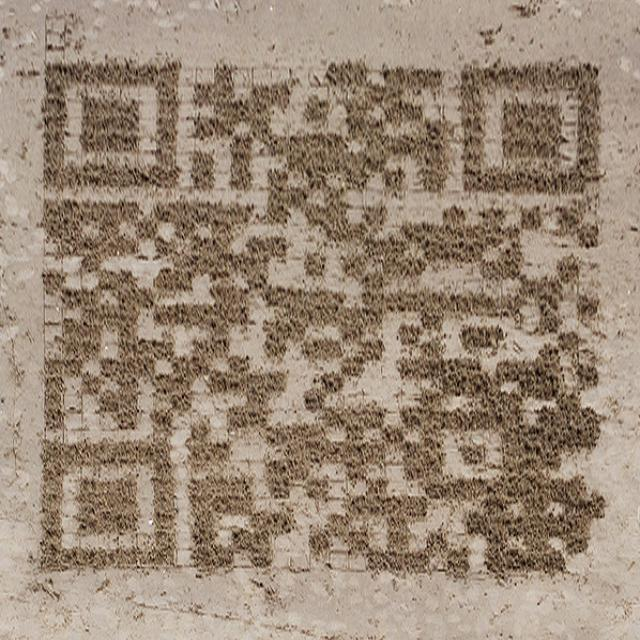qrcode: (42, 64, 601, 572)
